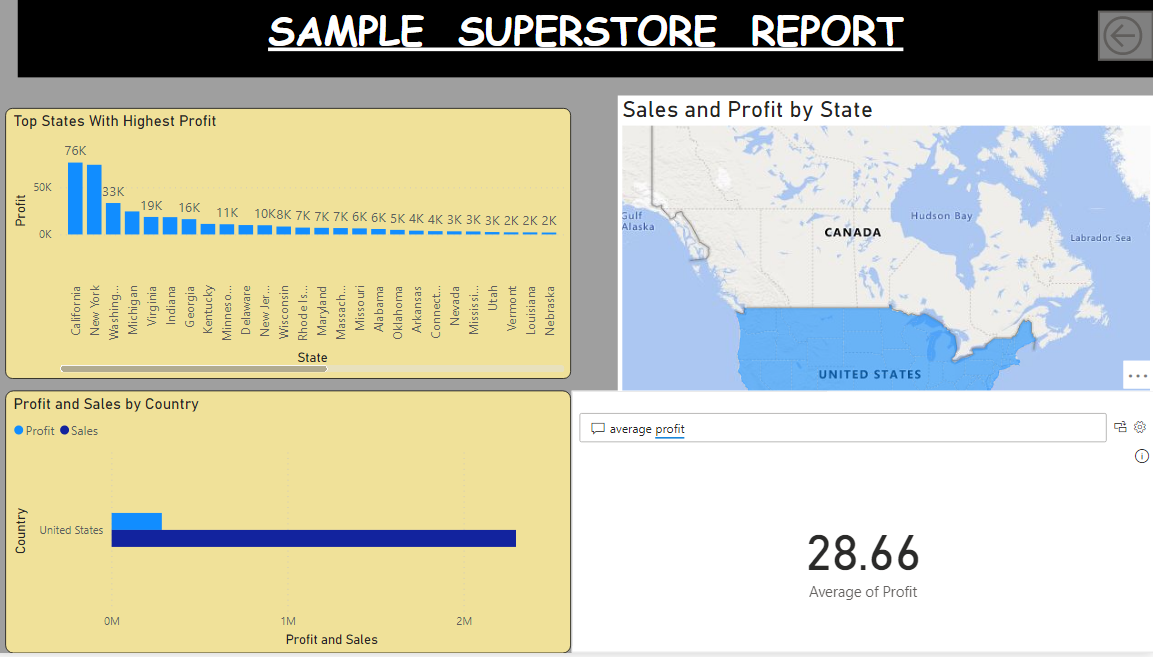

This screenshot's page, from the dashboard's own definition file:
{"tool":"powerbi","page":{"name":"Highest and Lowest Profits","canvas":[1280,720],"ordinal":3},"visuals":[{"type":"filledMap","fields":{"Category":["SampleSuperstore.State"]},"box":[690.4,107.5,589.6,613.1],"z":0},{"type":"clusteredBarChart","fields":{"Y":["Sum(SampleSuperstore.Profit)","Sum(SampleSuperstore.Sales)"],"Category":["SampleSuperstore.Country"]},"box":[18.5,431.7,621.5,288.9],"z":1000},{"type":"clusteredColumnChart","title":"Top States With Highest Profit","fields":{"Y":["Sum(SampleSuperstore.Profit)"],"Category":["SampleSuperstore.State"]},"box":[18.5,120.9,621.5,297.3],"z":2000},{"type":"textbox","box":[31.9,0,1248.1,87.3],"z":3000},{"type":"actionButton","box":[1218.2,13.7,61.8,54.9],"z":3001},{"type":"qnaVisual","box":[640,431.7,640,288.3],"z":3002}]}

Visuals, with their boxes in screenshot pixels (x1, y1, x2, y2), scaled from the page's 1280x720 canvas onto the 1153x657 screenshot:
filledMap - SampleSuperstore.State: locate(622, 98, 1152, 656)
clusteredBarChart - Sum(SampleSuperstore.Profit) x Sum(SampleSuperstore.Sales): locate(17, 394, 576, 656)
"Top States With Highest Profit" clusteredColumnChart: locate(17, 110, 576, 382)
textbox: locate(29, 0, 1152, 80)
actionButton: locate(1097, 13, 1152, 63)
qnaVisual: locate(576, 394, 1152, 656)
